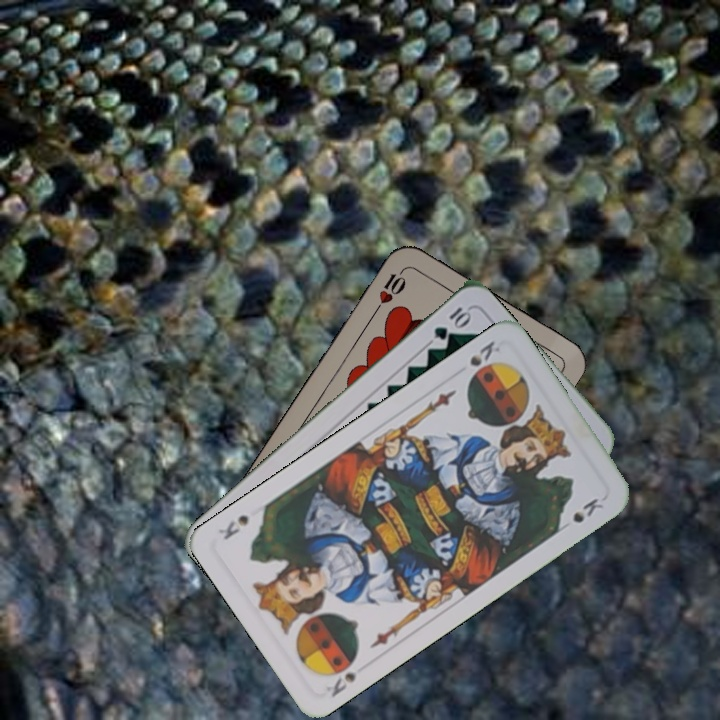G10: (429, 302, 474, 343)
H10: (370, 263, 410, 315)
SK: (465, 336, 503, 369), (322, 668, 361, 700)
